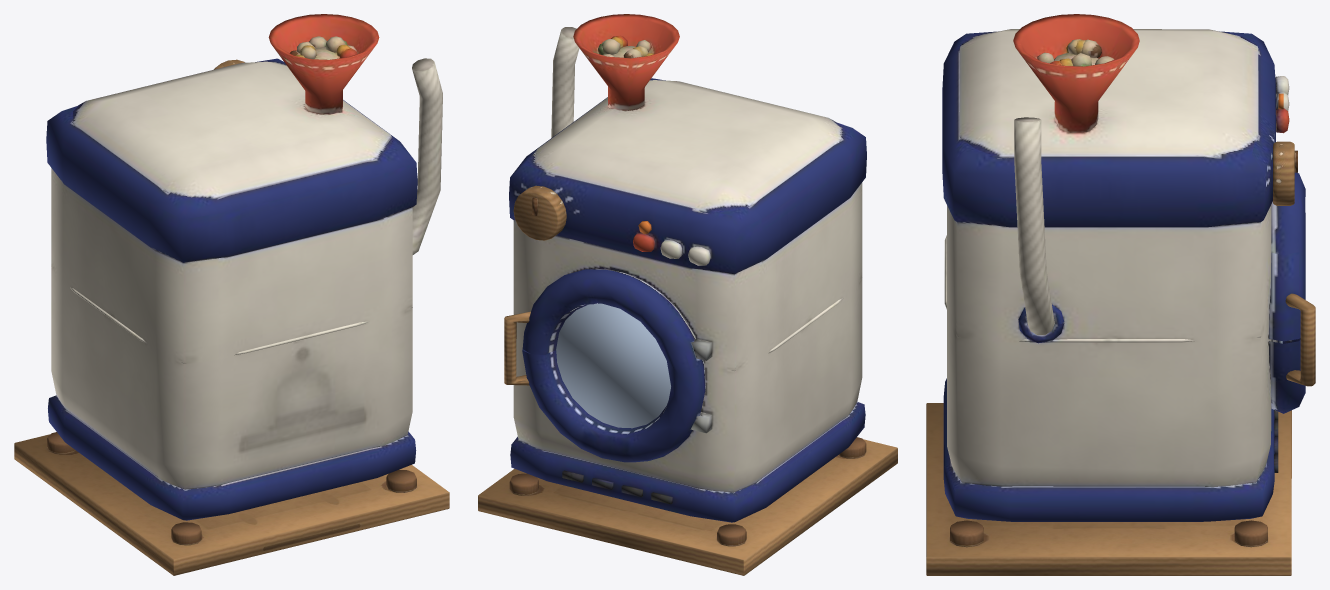
The model's file is giant_dryer.glb.
The picture shows the model from 3 angles, left to right: view 1: azimuth 30°, elevation 25°; view 2: azimuth 150°, elevation 25°; view 3: azimuth 270°, elevation 25°; orthographic projection. The views are drawn at different scales.
Parts seen in each view (by area): view 1: prop_giant_dryer_felt, prop_giant_dryer_wood; view 2: prop_giant_dryer_felt, prop_giant_dryer_wood, prop_giant_dryer_glass; view 3: prop_giant_dryer_felt, prop_giant_dryer_wood.
Boxes of the visible parts, left/top/right/bottom form: prop_giant_dryer_felt: left=46, top=14, right=442, bottom=520; prop_giant_dryer_wood: left=14, top=59, right=449, bottom=575; prop_giant_dryer_felt: left=509, top=14, right=866, bottom=522; prop_giant_dryer_wood: left=478, top=186, right=897, bottom=575; prop_giant_dryer_glass: left=556, top=303, right=670, bottom=428; prop_giant_dryer_felt: left=942, top=14, right=1305, bottom=521; prop_giant_dryer_wood: left=926, top=141, right=1315, bottom=575.
Bounding box in the file's own units: 3.05 × 4.09 × 2.87.
4 materials, 3 textured.
